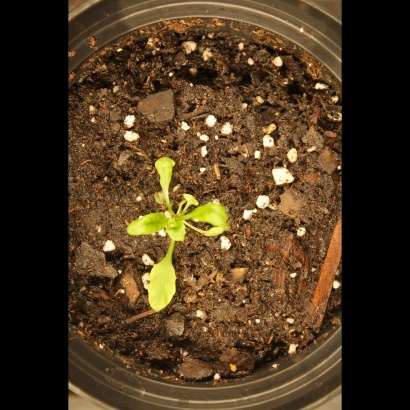leaf: (138, 256, 187, 317), (145, 149, 185, 194), (124, 209, 172, 242), (189, 201, 234, 227), (201, 223, 239, 253), (164, 217, 193, 250)
